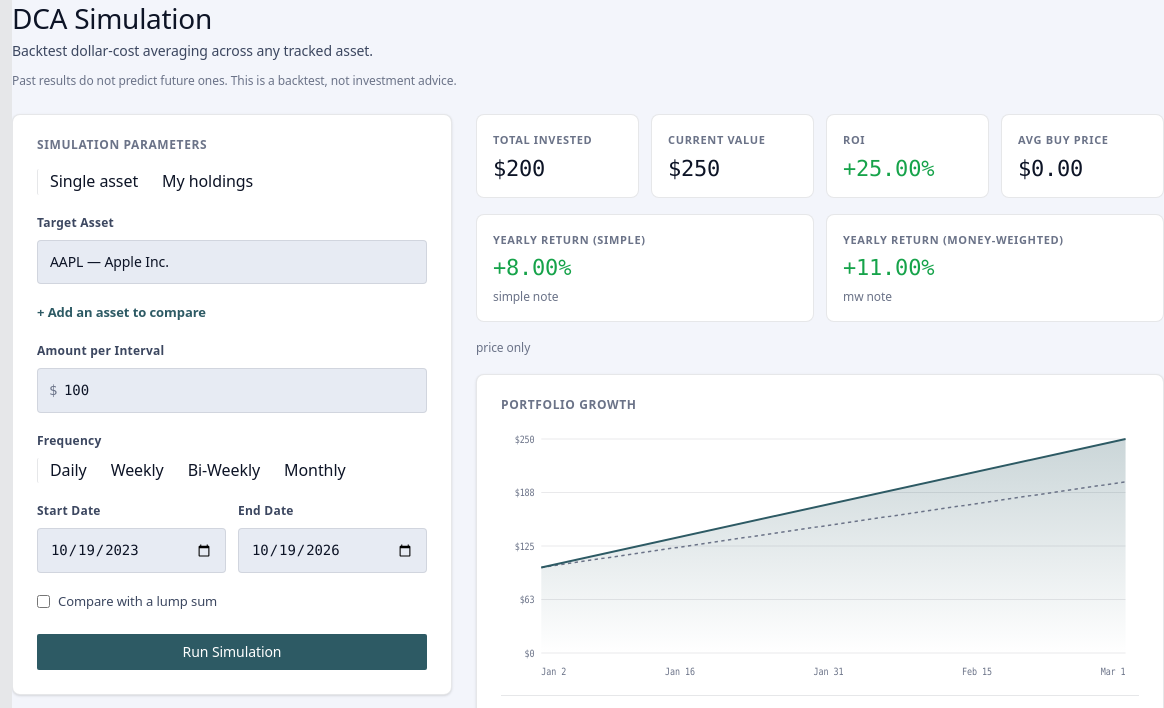
Test: DCASimulation: simulate my holdings › shows the combined figures, the per-asset breakdown and a hypothetical note
This screenshot has width=1164, height=708.
Expected: the text "Total Invested" is shown, [493,132,592,147]
Click the radio button labelled "My holdings".
click(208, 182)  # box [150,169,265,195]
(page scrolled)
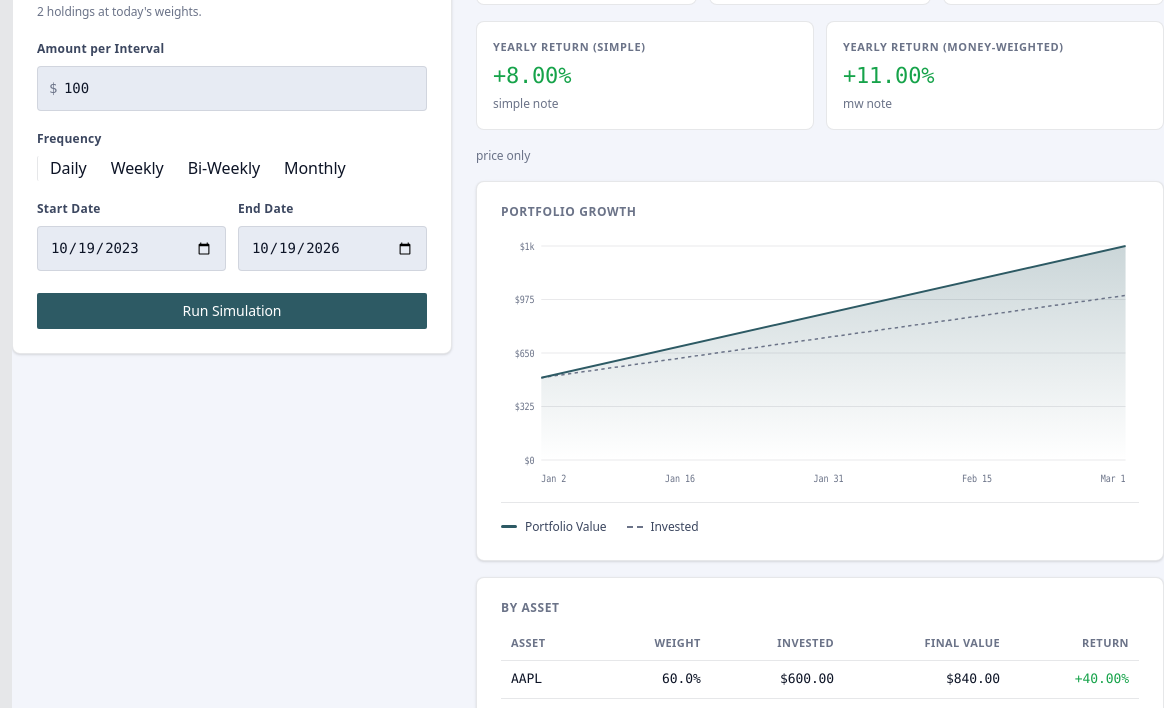
Expected: the element with class "dca-right" shows "mw note", [843,95,892,112]
Expected: the row "AAPL 60.0% $600.00 $840.00 +40.00%" is shown, [501,660,1139,698]
